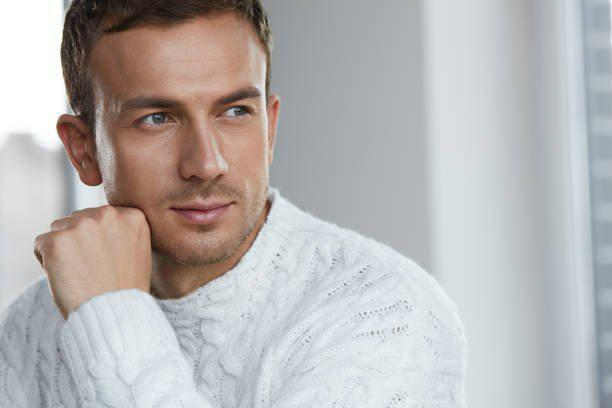Sober: (110, 34, 265, 254)
